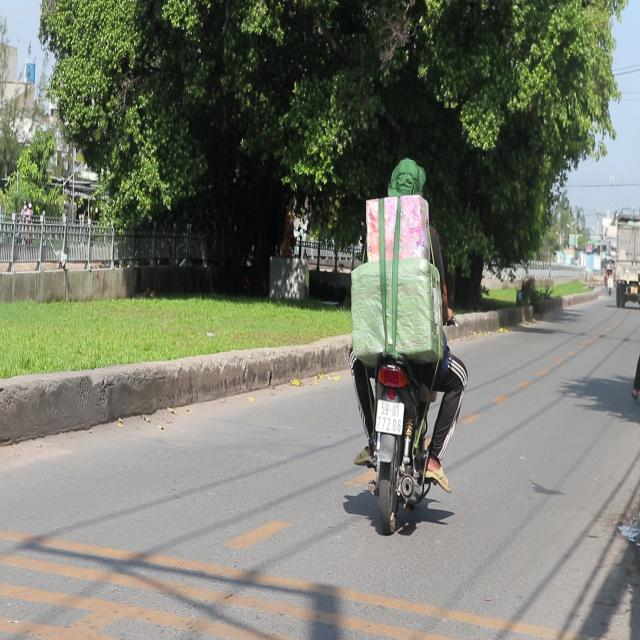licenseplate: (345, 149, 468, 534)
motorcyclist: (386, 153, 428, 226)
nohelmet: (375, 400, 402, 433)
